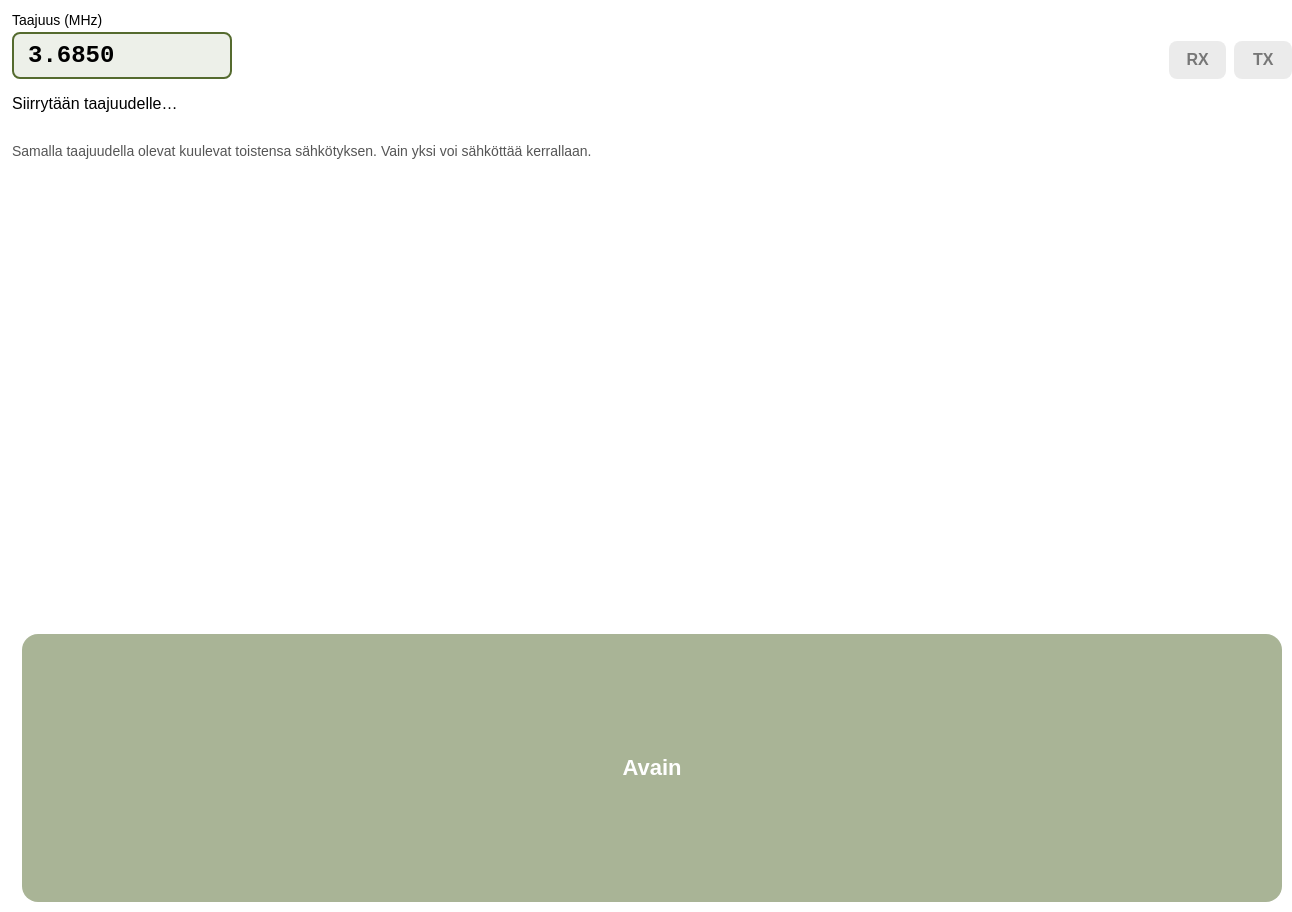
Test case: Live › changes the frequency when a new one is written
This screenshot has width=1292, height=912.
Replace the text in the field labelled "Taajuus (MHz)" with "7,03" at (122, 56), box [12,32,232,79]
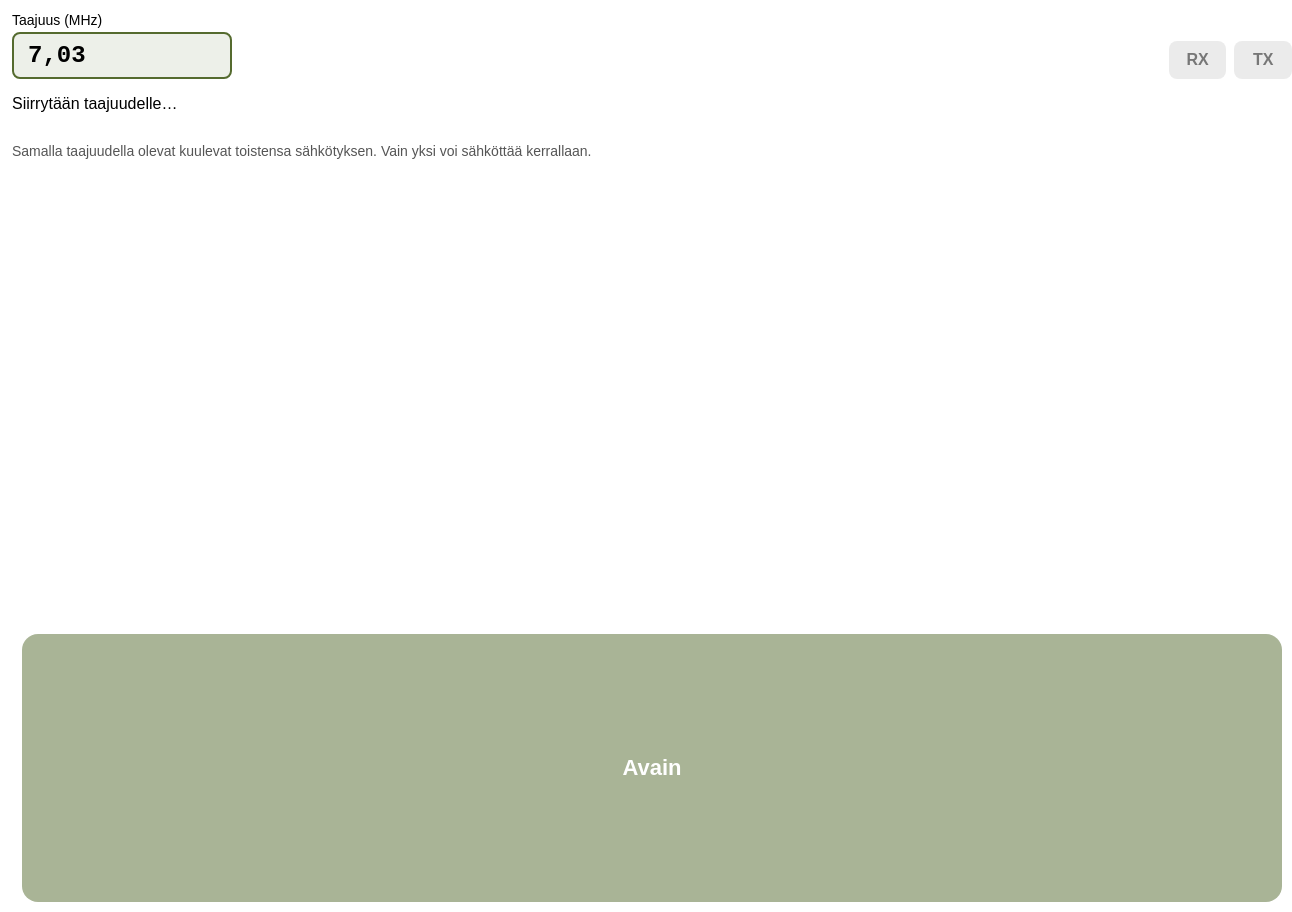
Note: Something that is not a frequency takes the user off the frequency
Replace the text in the field labelled "Taajuus (MHz)" with "99" at (122, 56), box [12,32,232,79]
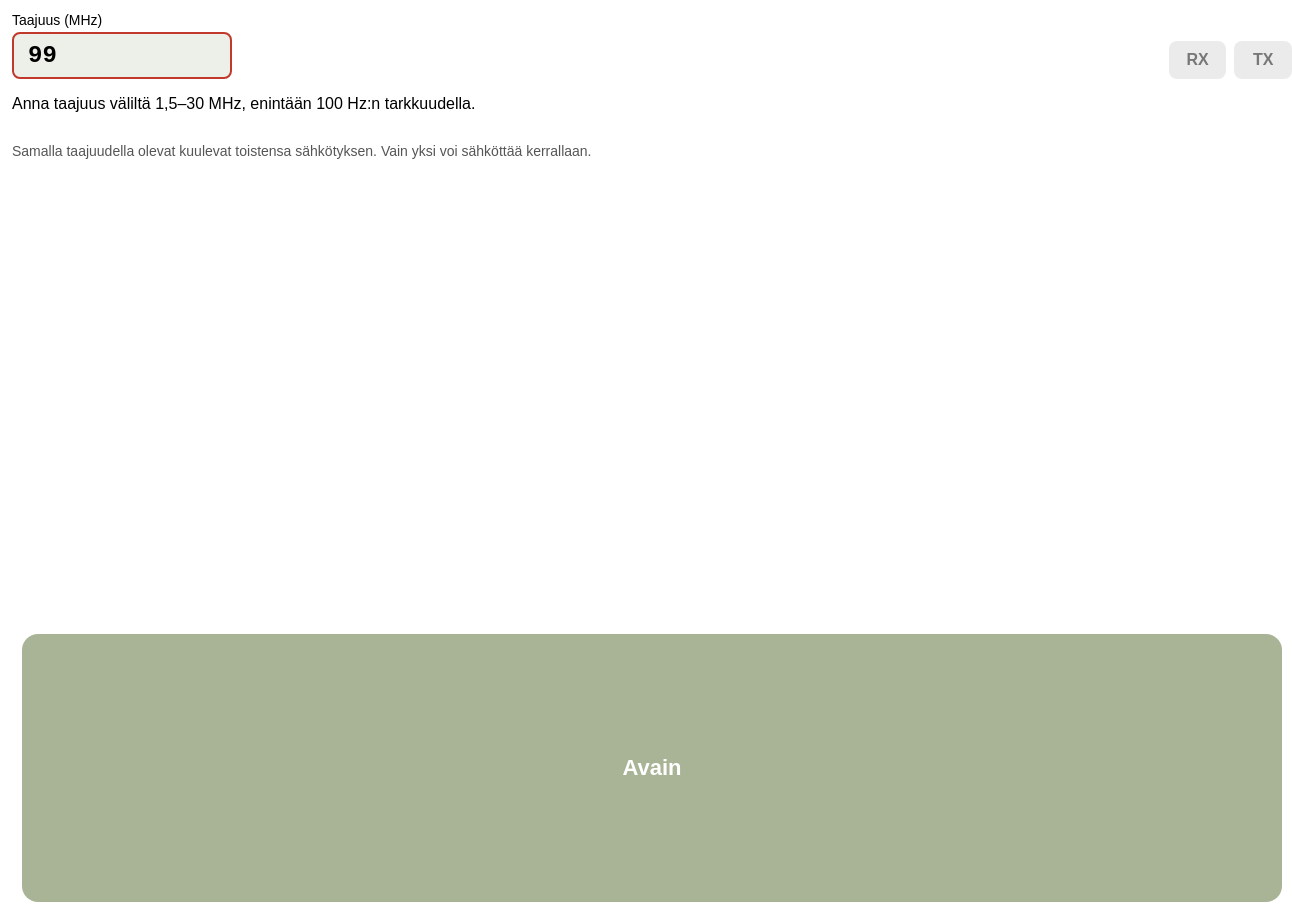
Check: the button with aria-label "Sähkötysavain" is disabled, box [22,634,1282,902]
Check: the field labelled "Taajuus (MHz)" is marked as invalid, box [12,32,232,79]
